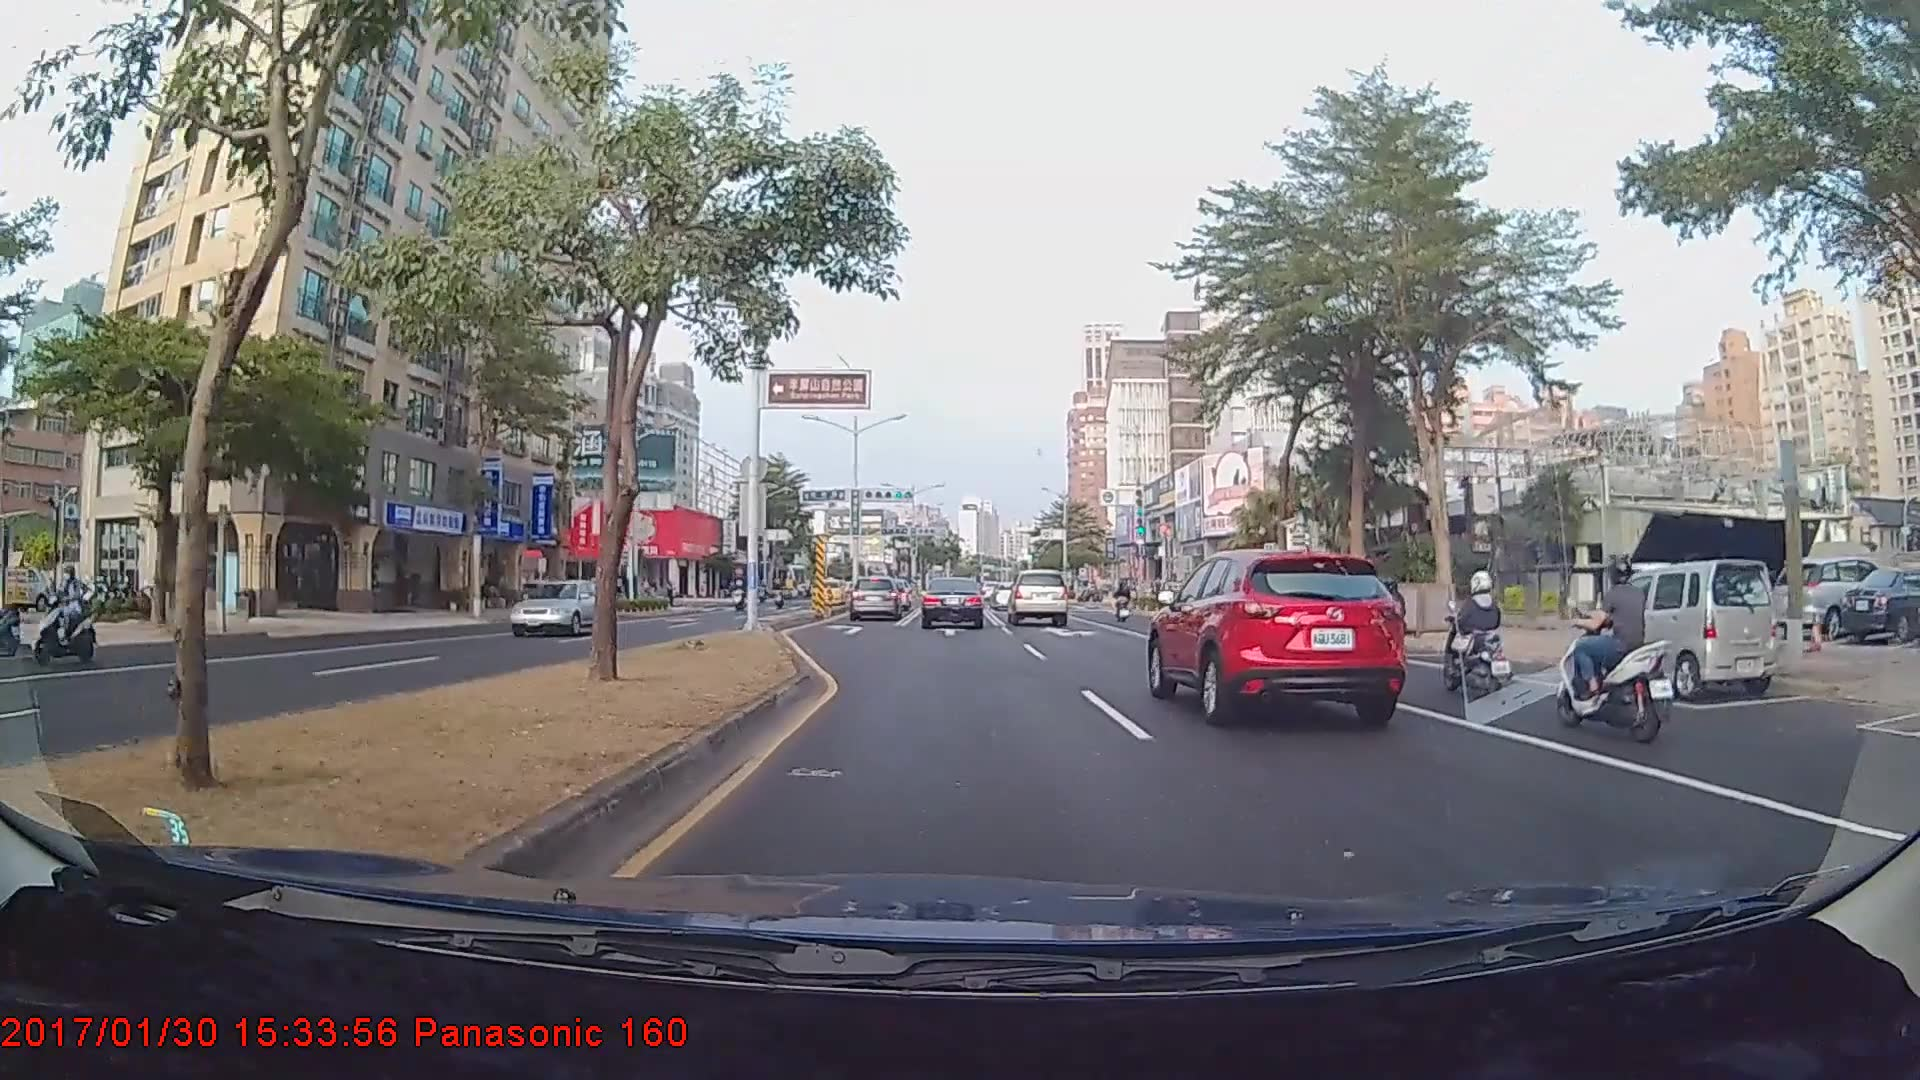rider: (1544, 553, 1676, 742), (1431, 572, 1528, 714), (31, 562, 103, 668), (1364, 576, 1410, 679), (1112, 585, 1137, 628)
vehicle: (1148, 541, 1407, 723), (1577, 558, 1777, 701), (1769, 557, 1904, 639), (505, 577, 604, 636), (1006, 568, 1070, 626), (920, 576, 985, 629), (846, 573, 910, 622)
